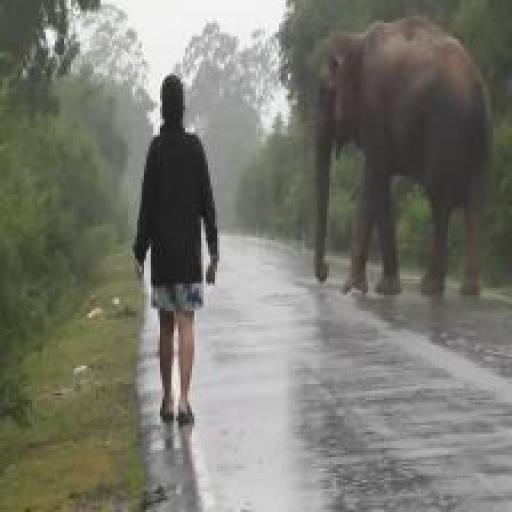Elephant: (297, 0, 504, 313)
